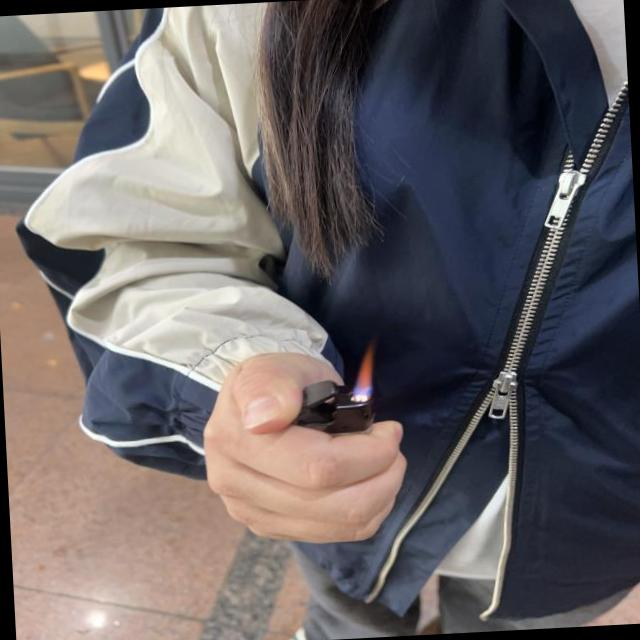Fire: (352, 339, 377, 402)
